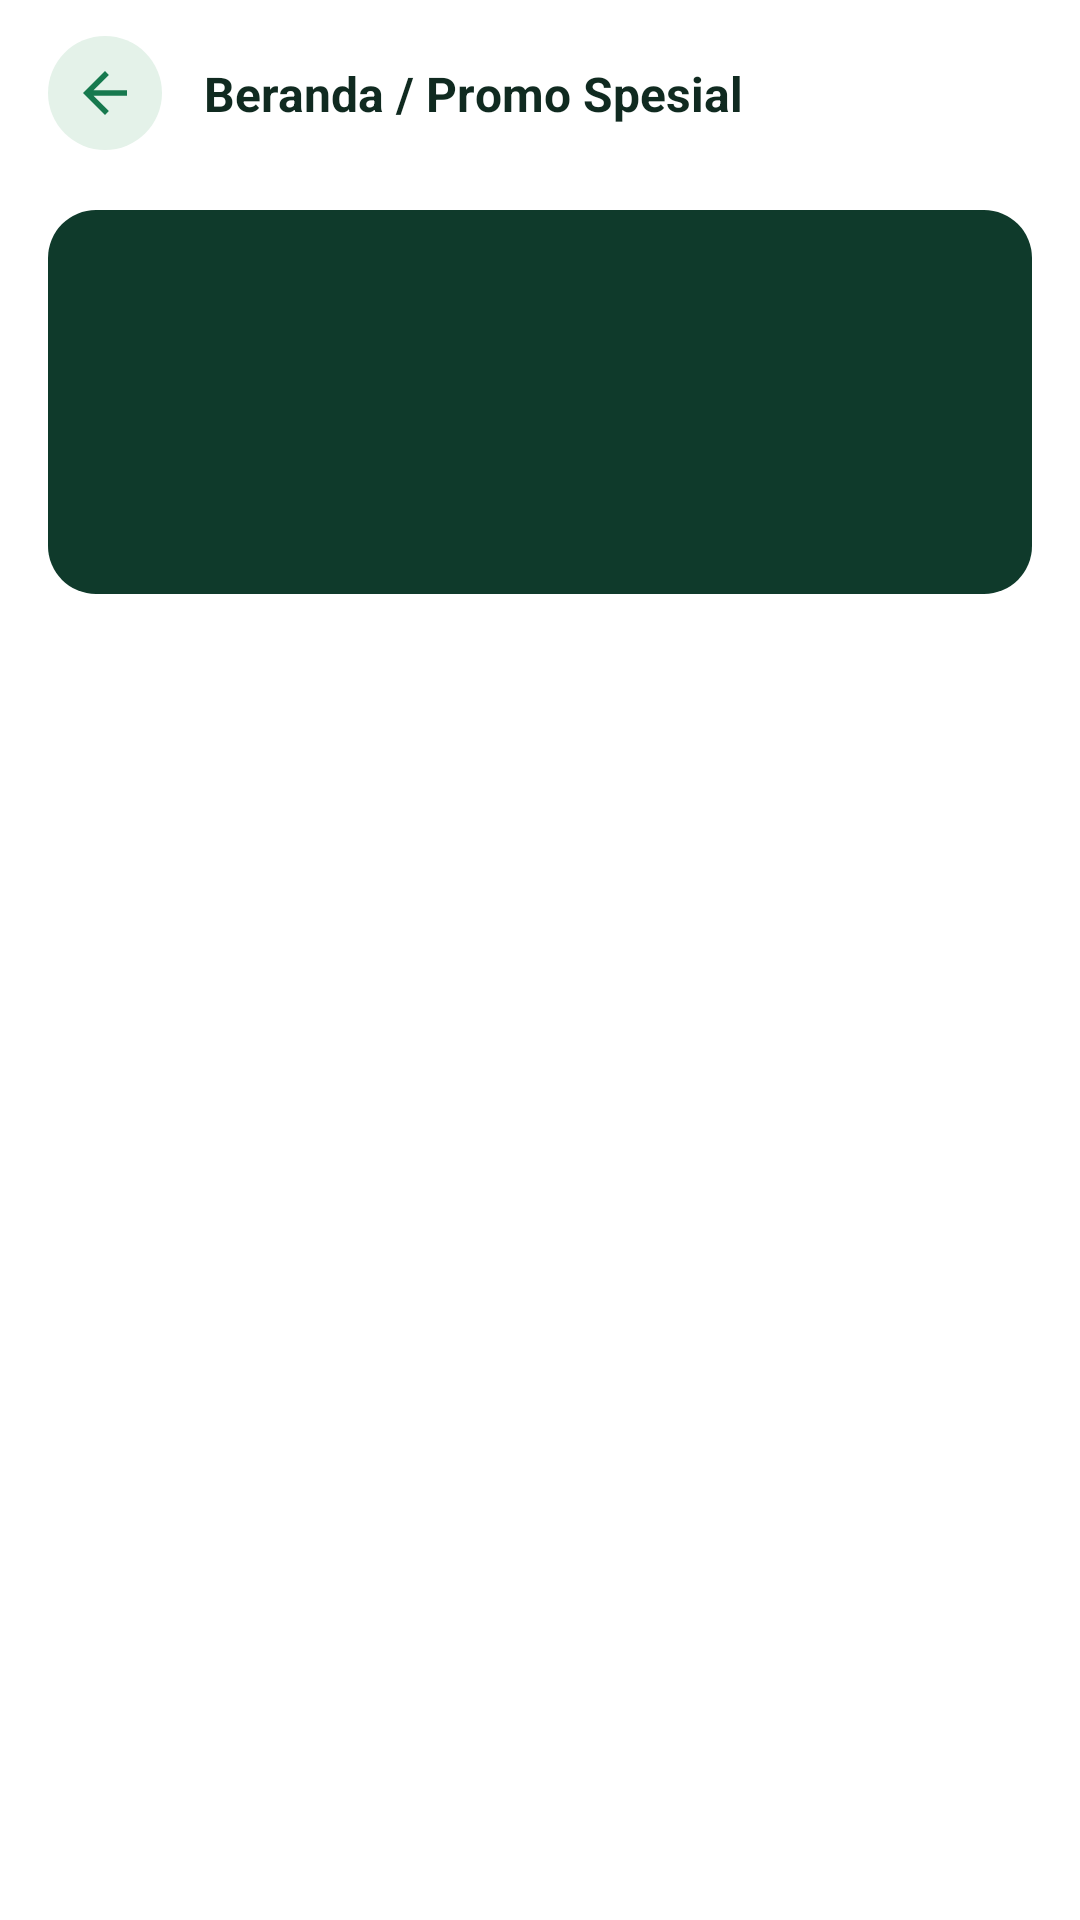

Where icons sit on this 1080×1920 app screen, as (x1, y1, x2, y2):
arrow back: (48, 36, 162, 150)
